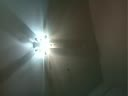window: (0, 12, 27, 96), (37, 47, 60, 64), (36, 88, 62, 96), (88, 68, 94, 76)
